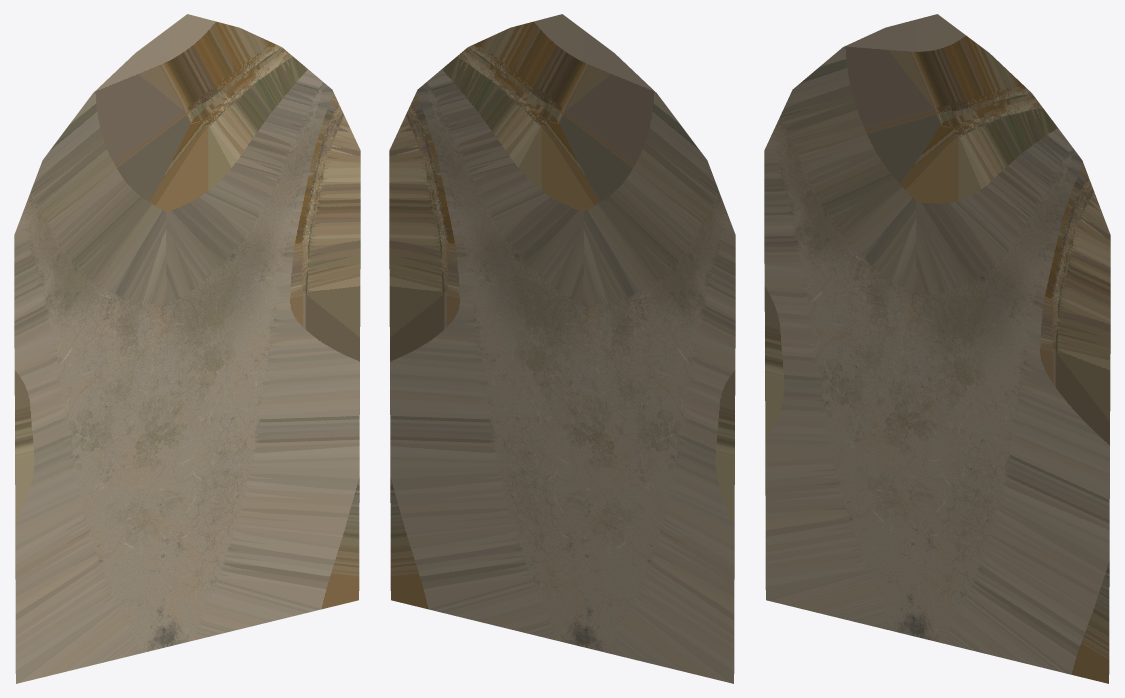
The model's file is SM_door_01.fbx.
3 views of the same model, side by side, from view 1: azimuth 30°, elevation 25°; view 2: azimuth 150°, elevation 25°; view 3: azimuth 330°, elevation 25° (orthographic).
Visible parts, largest first — view 1: door_lp; view 2: door_lp; view 3: door_lp.
Boxes of the visible parts, bbox=[...] form: door_lp: bbox=[14, 14, 360, 683]; door_lp: bbox=[389, 14, 735, 683]; door_lp: bbox=[764, 14, 1110, 683].
Size of the model in its own units: 3.66 by 6.34 by 0.000496.
